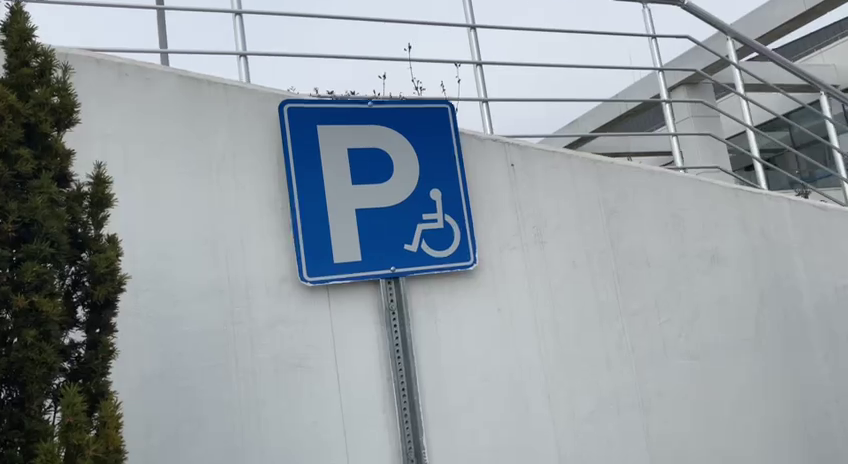parking: (277, 99, 481, 284)
